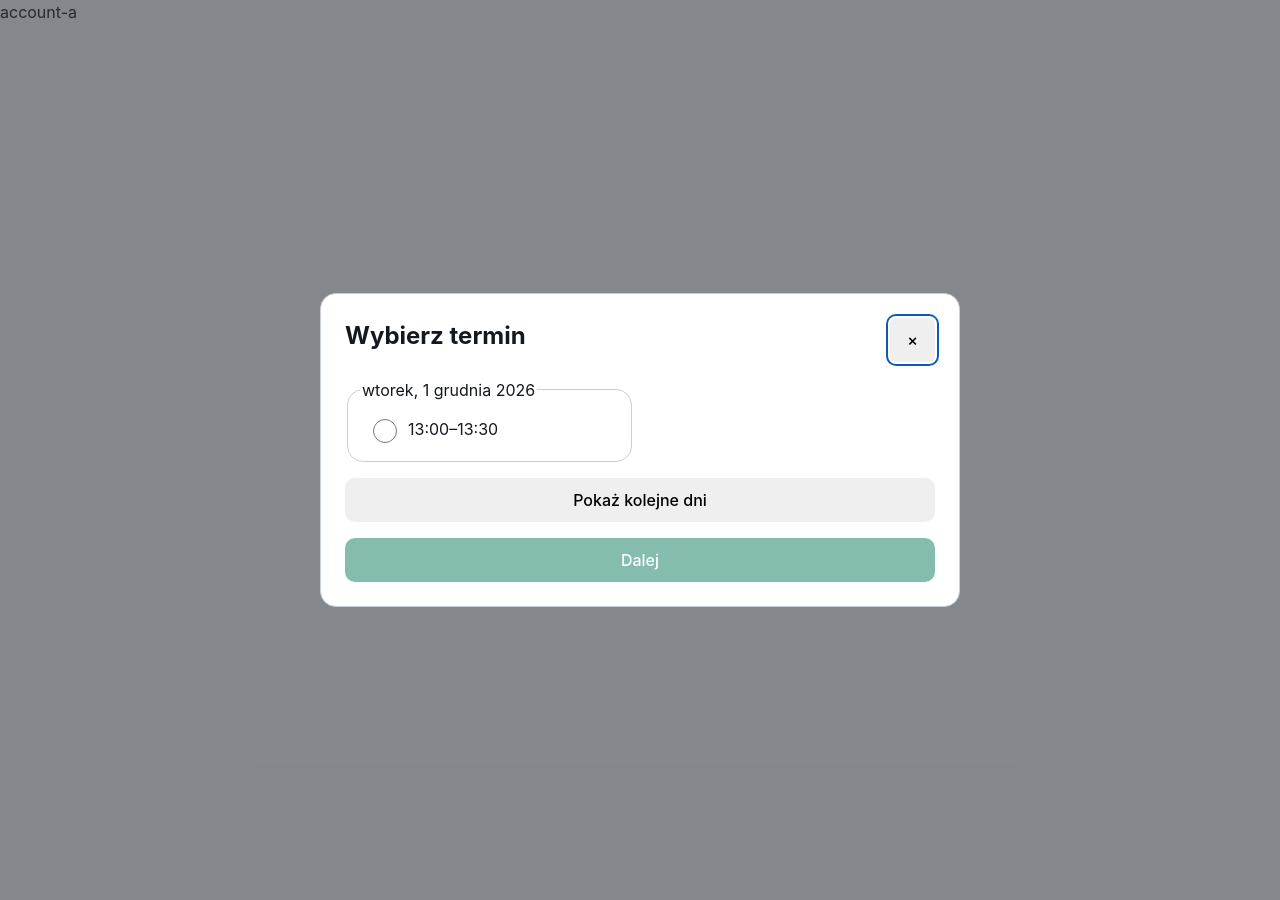
Scenario: control: current-account viewing note and successful result work
expect the text named "identity" reads "account-a": met, box [0,2,77,22]
Click the radio button.
click(385, 431)  # box [373,419,397,443]
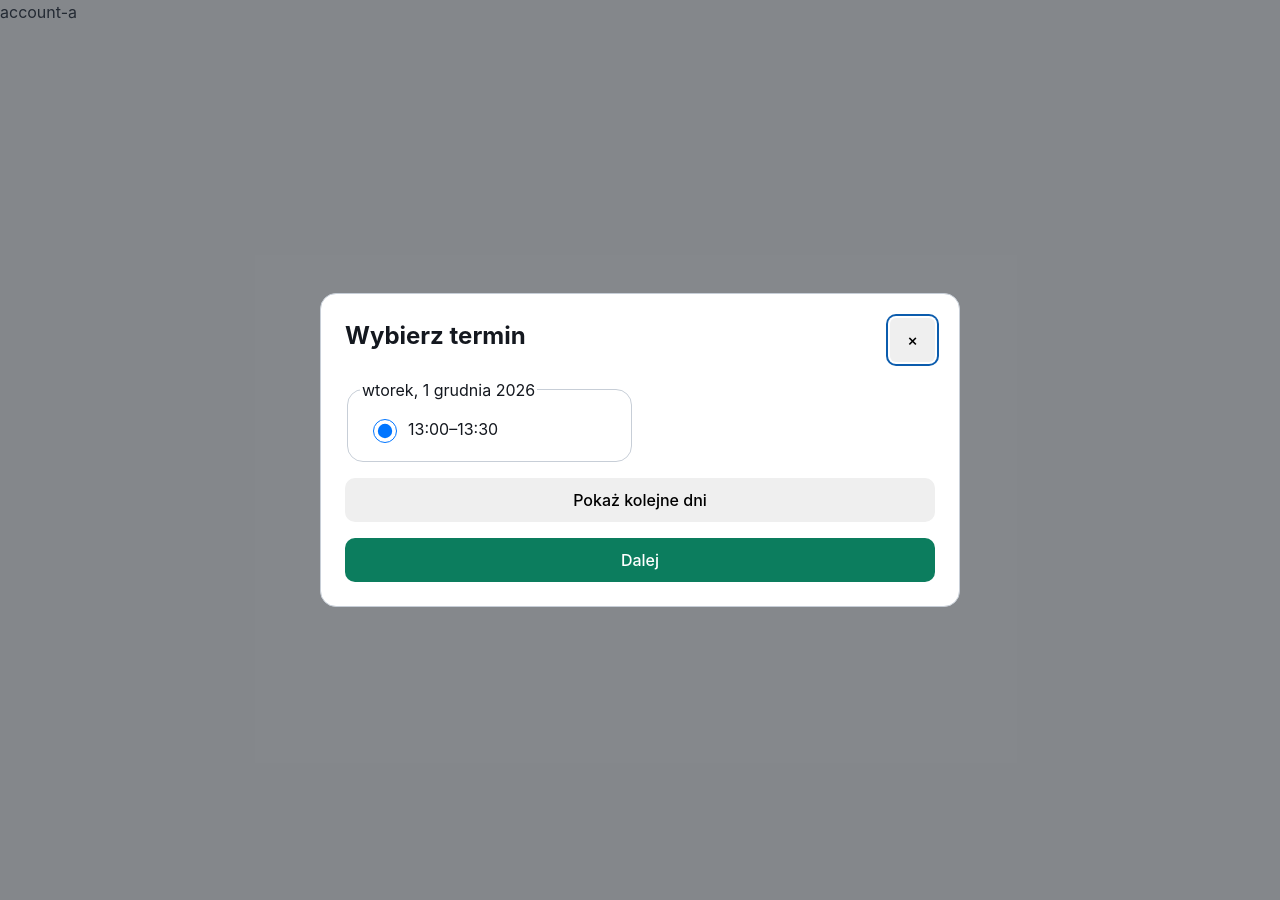
Click the button "Dalej".
click(640, 560)  # box [345,538,935,582]
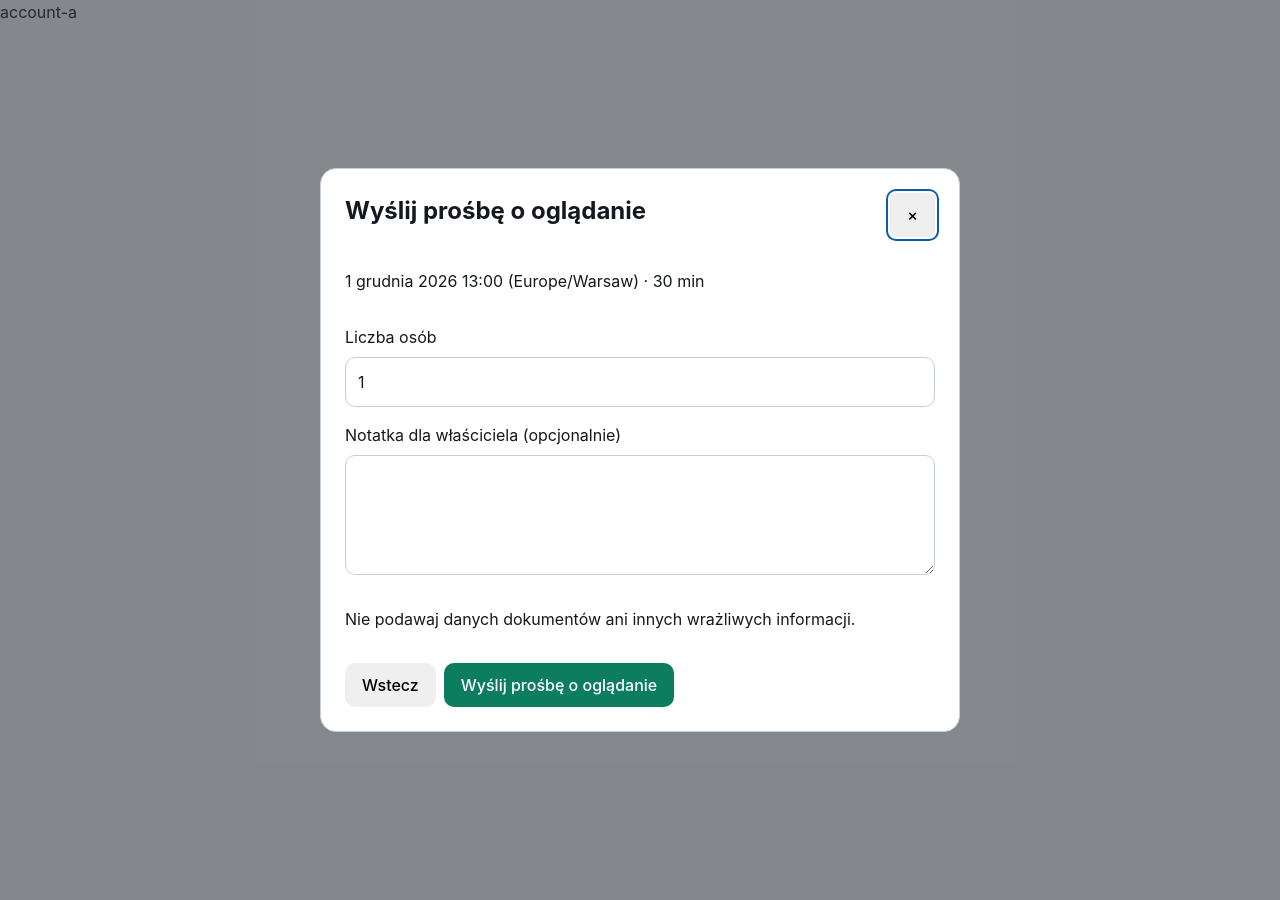
Type "A note" into the text box labelled "Notatka dla właściciela (opcjonalnie)".
click(640, 515); type("A note")  # box [345,455,935,575]
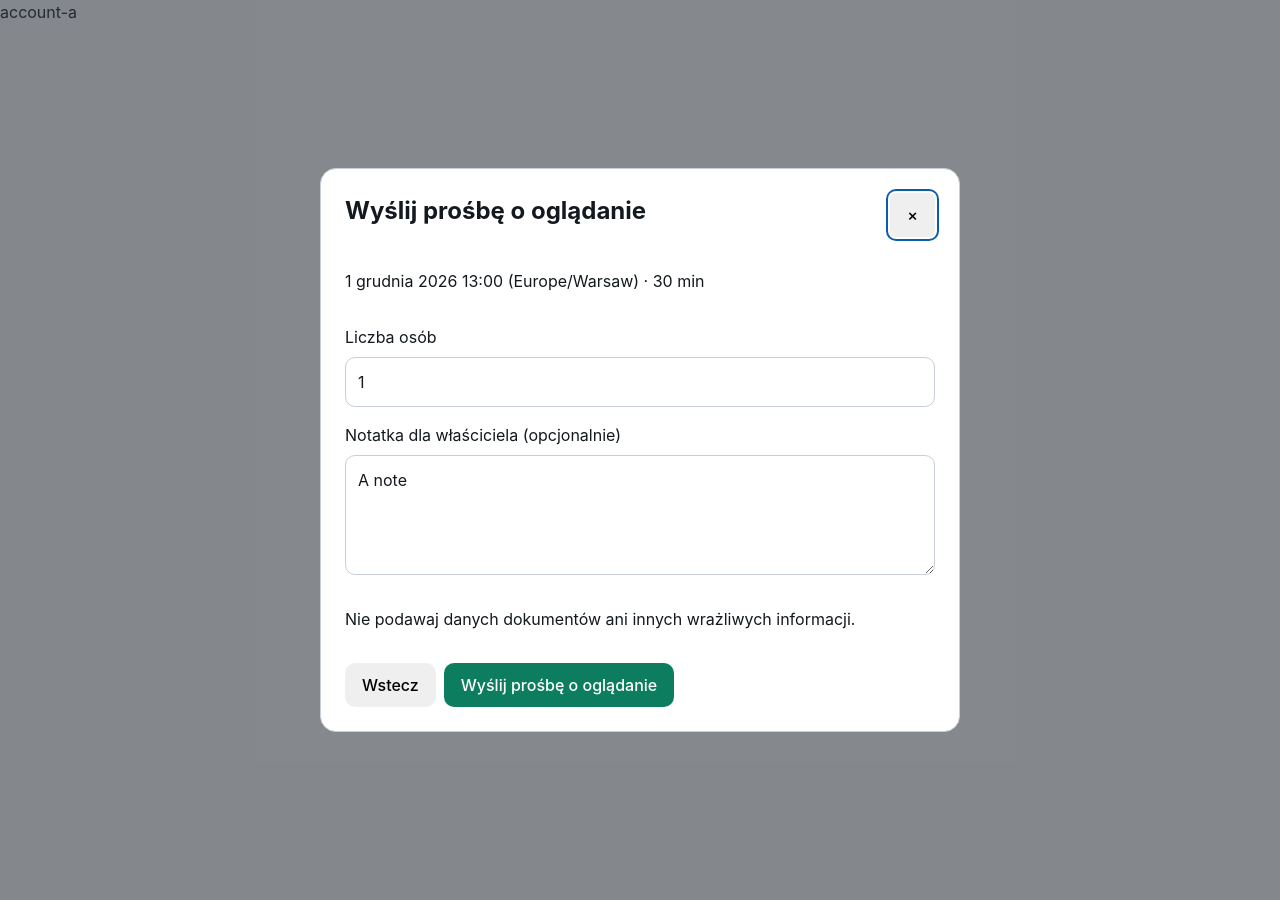
Click the button "Wyślij prośbę o oglądanie".
click(559, 685)  # box [444,663,674,707]
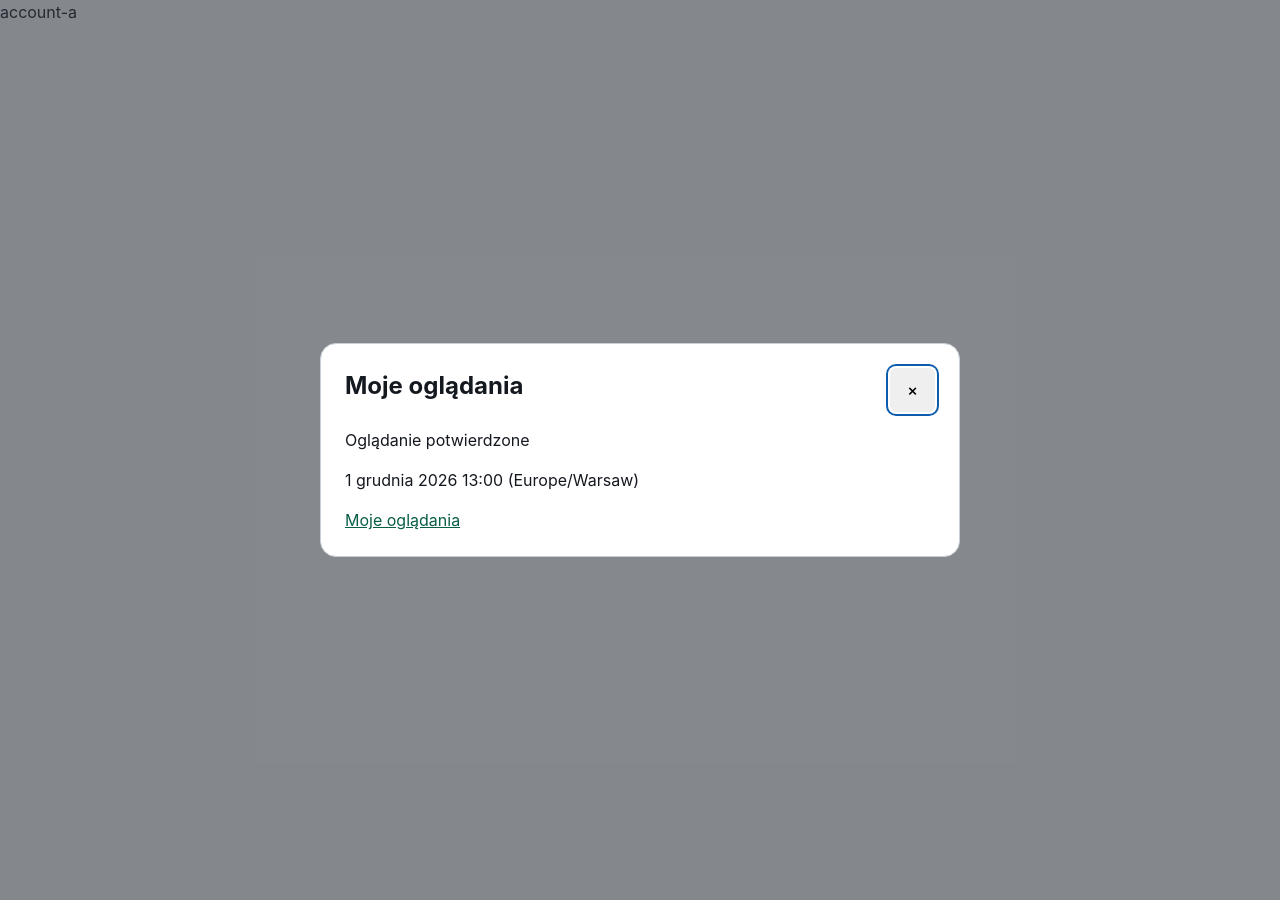
expect the text "Oglądanie potwierdzone" is shown: met, box [345,430,530,450]
